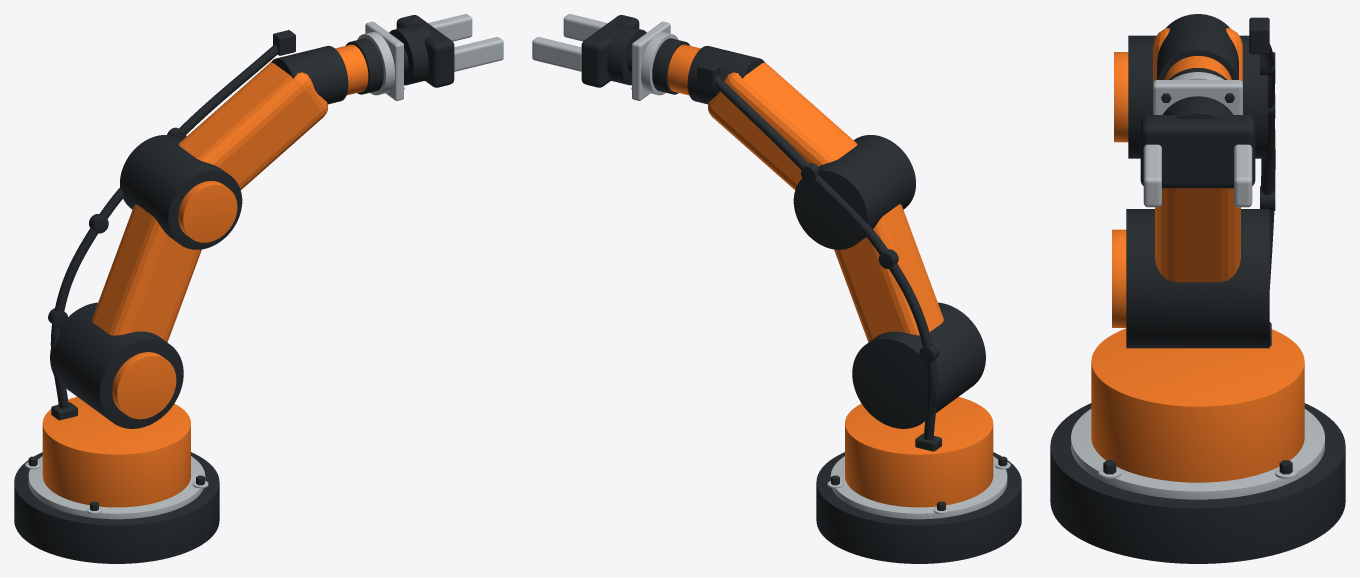
File: six_axis_robot.glb
3 views of the same model, side by side, from view 1: azimuth 30°, elevation 25°; view 2: azimuth 150°, elevation 25°; view 3: azimuth 270°, elevation 25° (orthographic). The views are drawn at different scales.
Parts seen in each view (by area): view 1: ROBOT_axis1_turntable, ROBOT_base, ROBOT_forearm, ROBOT_upper_arm, ROBOT_axis2_shoulder, ROBOT_axis3_elbow, ROBOT_axis2_cover, ROBOT_dresspack, ROBOT_axis3_cover, ROBOT_base_flange, ROBOT_axis4_wrist_roll, ROBOT_gripper_palm (+7 smaller); view 2: ROBOT_axis1_turntable, ROBOT_base, ROBOT_axis2_shoulder, ROBOT_axis3_elbow, ROBOT_forearm, ROBOT_upper_arm, ROBOT_dresspack, ROBOT_base_flange, ROBOT_axis4_wrist_roll, ROBOT_gripper_palm, ROBOT_gripper_actuator, ROBOT_gripper_finger_0.22 (+5 smaller); view 3: ROBOT_axis1_turntable, ROBOT_base, ROBOT_axis2_shoulder, ROBOT_upper_arm, ROBOT_gripper_palm, ROBOT_base_flange, ROBOT_axis3_elbow, ROBOT_axis4_wrist_roll, ROBOT_tool_adapter_plate, ROBOT_dresspack, ROBOT_axis2_cover, ROBOT_axis3_cover (+6 smaller).
Part boxes in pixels (<box>): ROBOT_axis1_turntable: <box>42,397,190,507</box>; ROBOT_base: <box>14,452,219,563</box>; ROBOT_forearm: <box>178,62,327,189</box>; ROBOT_upper_arm: <box>92,204,201,342</box>; ROBOT_axis2_shoulder: <box>50,302,183,428</box>; ROBOT_axis3_elbow: <box>120,135,242,249</box>; ROBOT_axis2_cover: <box>112,352,176,419</box>; ROBOT_dresspack: <box>50,44,277,408</box>; ROBOT_axis3_cover: <box>178,181,237,242</box>; ROBOT_base_flange: <box>28,456,205,519</box>; ROBOT_axis4_wrist_roll: <box>271,45,348,104</box>; ROBOT_gripper_palm: <box>396,15,454,87</box>; ROBOT_axis1_turntable: <box>845,397,993,507</box>; ROBOT_base: <box>816,452,1021,563</box>; ROBOT_axis2_shoulder: <box>852,302,985,428</box>; ROBOT_axis3_elbow: <box>793,135,915,249</box>; ROBOT_forearm: <box>708,62,857,189</box>; ROBOT_upper_arm: <box>834,204,943,342</box>; ROBOT_dresspack: <box>715,76,937,440</box>; ROBOT_base_flange: <box>830,456,1007,519</box>; ROBOT_axis4_wrist_roll: <box>687,45,764,104</box>; ROBOT_gripper_palm: <box>581,15,639,87</box>; ROBOT_gripper_actuator: <box>604,24,646,85</box>; ROBOT_gripper_finger_0.22: <box>532,37,581,71</box>; ROBOT_axis1_turntable: <box>1091,328,1304,482</box>; ROBOT_base: <box>1050,403,1345,563</box>; ROBOT_axis2_shoulder: <box>1126,209,1269,348</box>; ROBOT_upper_arm: <box>1155,188,1240,282</box>; ROBOT_gripper_palm: <box>1140,115,1255,188</box>; ROBOT_base_flange: <box>1071,409,1324,499</box>; ROBOT_axis3_elbow: <box>1128,35,1267,158</box>; ROBOT_axis4_wrist_roll: <box>1157,14,1238,79</box>; ROBOT_tool_adapter_plate: <box>1153,80,1242,114</box>; ROBOT_dresspack: <box>1259,43,1275,288</box>; ROBOT_axis2_cover: <box>1112,229,1126,327</box>; ROBOT_axis3_cover: <box>1114,52,1128,142</box>.
Bounding box in the file's own units: 3.71 × 3.29 × 1.44.
